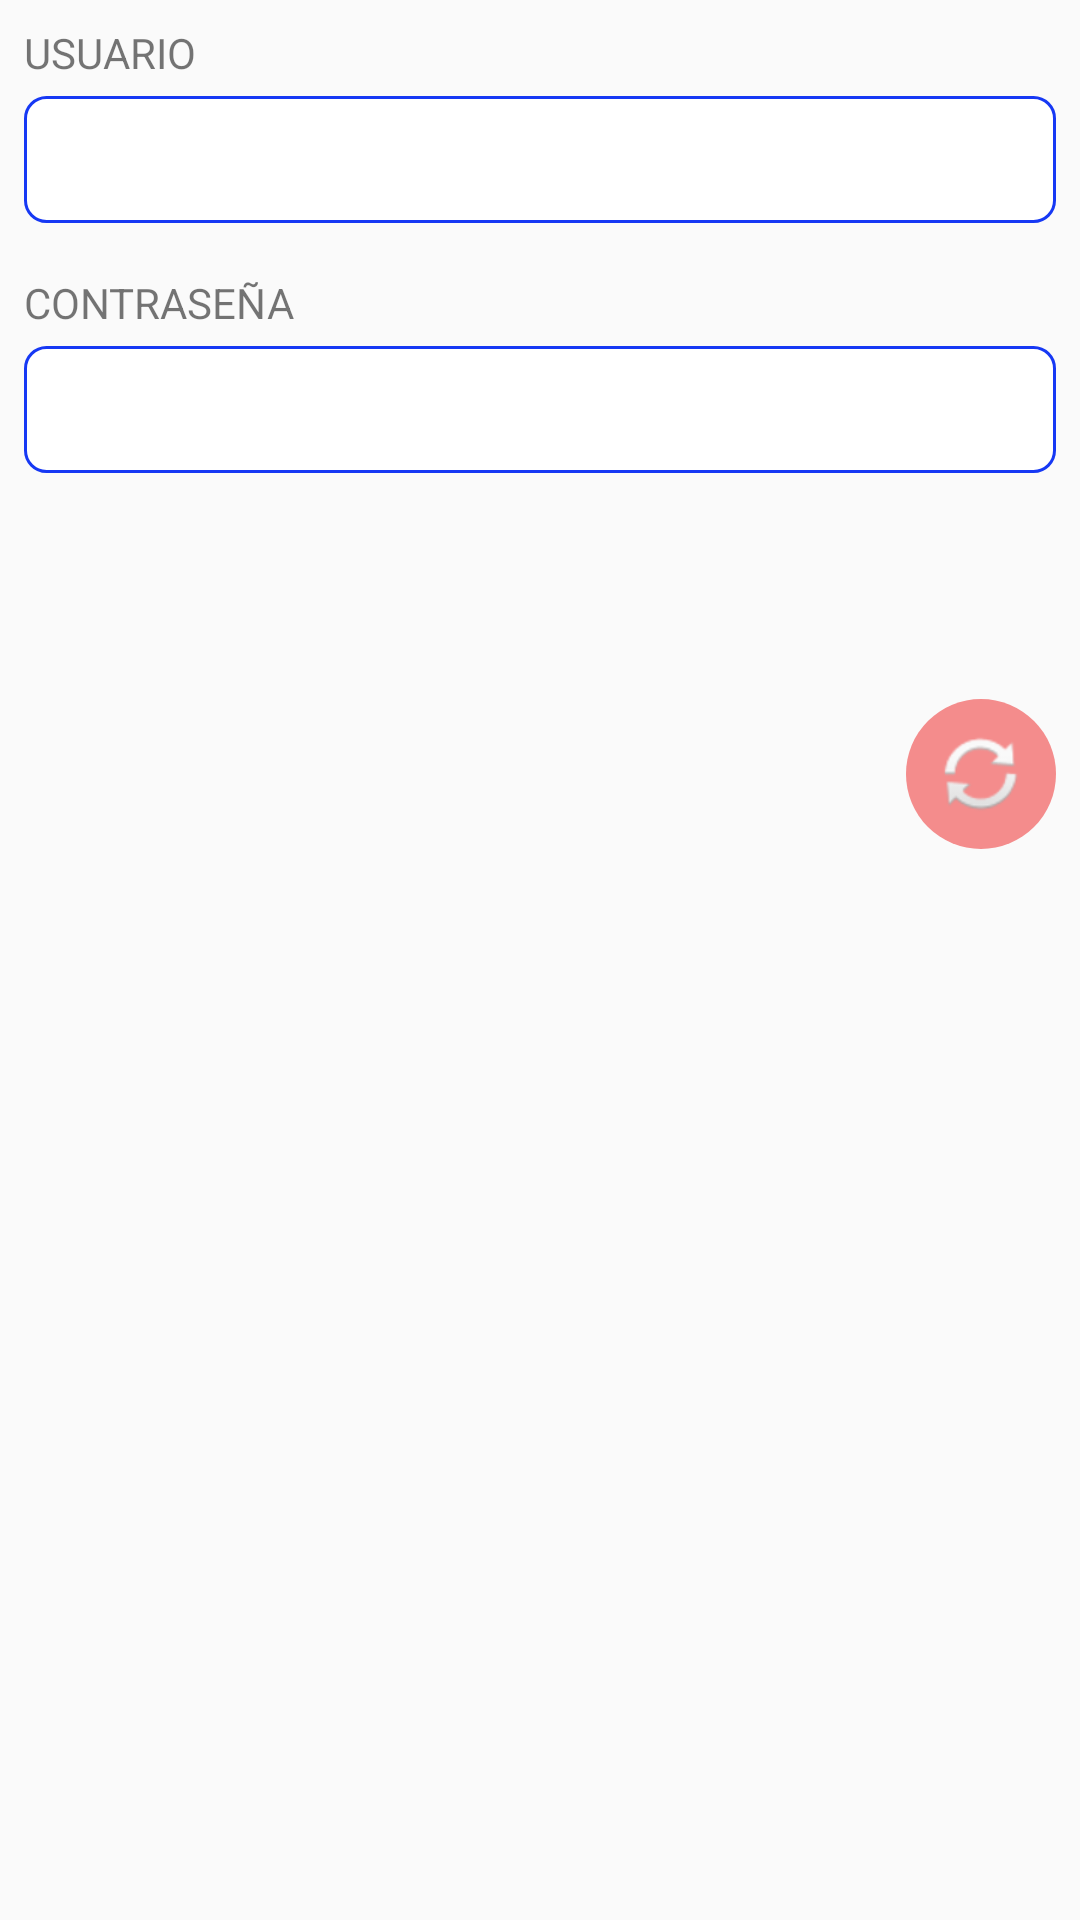

Screen size 1080px×1920px. Icon name, then its box in pixels as (x1, y1, x2, y2):
popup sync: (906, 699, 1056, 849)
